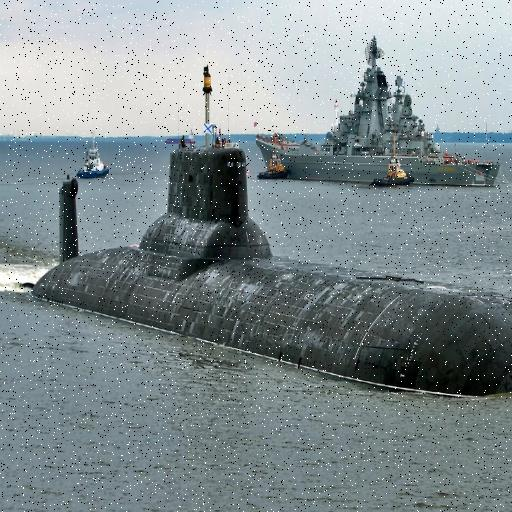submarine: (22, 60, 512, 403)
